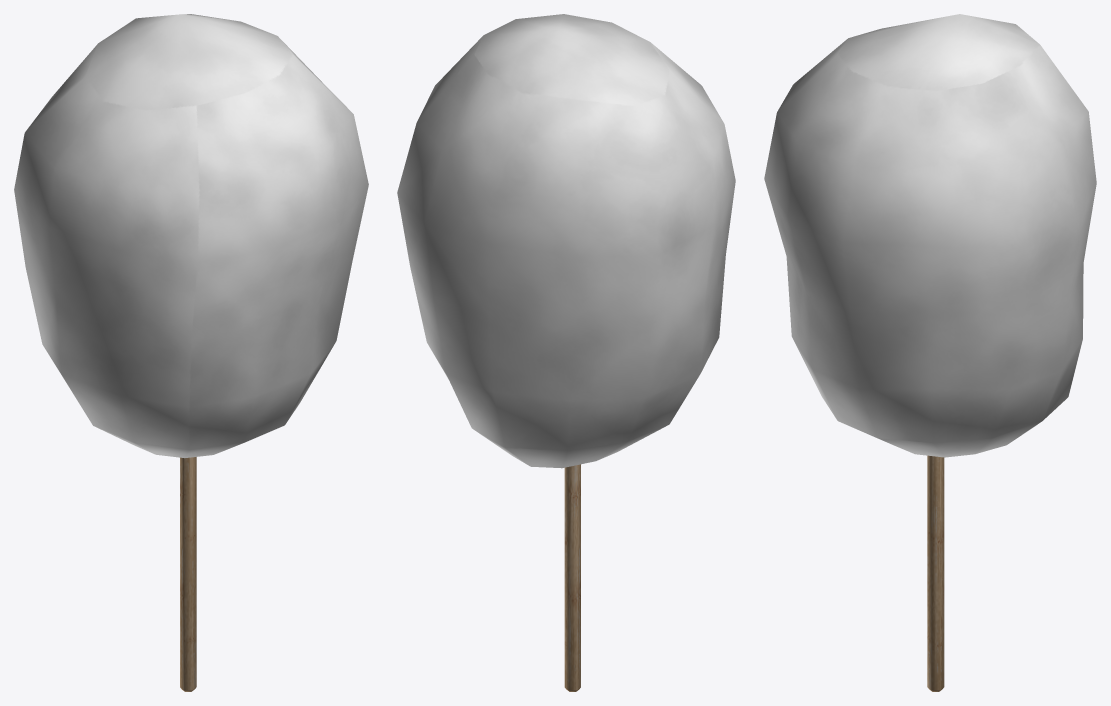
File: FoodProp_F.fbx
3 views of the same model, side by side, from view 1: azimuth 30°, elevation 25°; view 2: azimuth 150°, elevation 25°; view 3: azimuth 270°, elevation 25° (orthographic).
Visible parts, largest first — view 1: FoodProp_F; view 2: FoodProp_F; view 3: FoodProp_F.
Part boxes in pixels (left/top/right/bottom): FoodProp_F: left=14, top=14, right=368, bottom=691; FoodProp_F: left=397, top=14, right=735, bottom=691; FoodProp_F: left=764, top=14, right=1096, bottom=691.
Size of the model in its own units: 0.2945 by 0.6522 by 0.2903.
